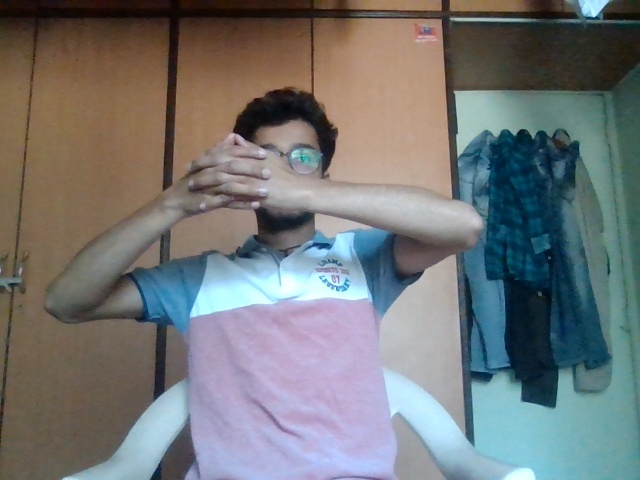good: (173, 131, 297, 224)
